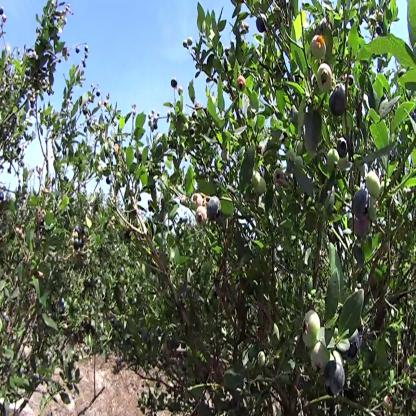intermediate: (192, 192, 207, 227), (318, 64, 334, 92), (313, 36, 327, 59), (237, 76, 246, 92), (384, 395, 391, 409)
mature: (353, 190, 374, 239), (341, 326, 360, 366), (324, 364, 345, 398), (330, 84, 349, 118), (208, 197, 222, 220), (336, 137, 350, 160), (256, 13, 268, 34), (274, 169, 284, 185), (74, 239, 85, 251), (78, 225, 86, 241)
young: (303, 310, 331, 373), (367, 170, 384, 197), (328, 149, 342, 174), (253, 177, 268, 197), (258, 351, 266, 370), (182, 38, 193, 48), (75, 231, 80, 239)
